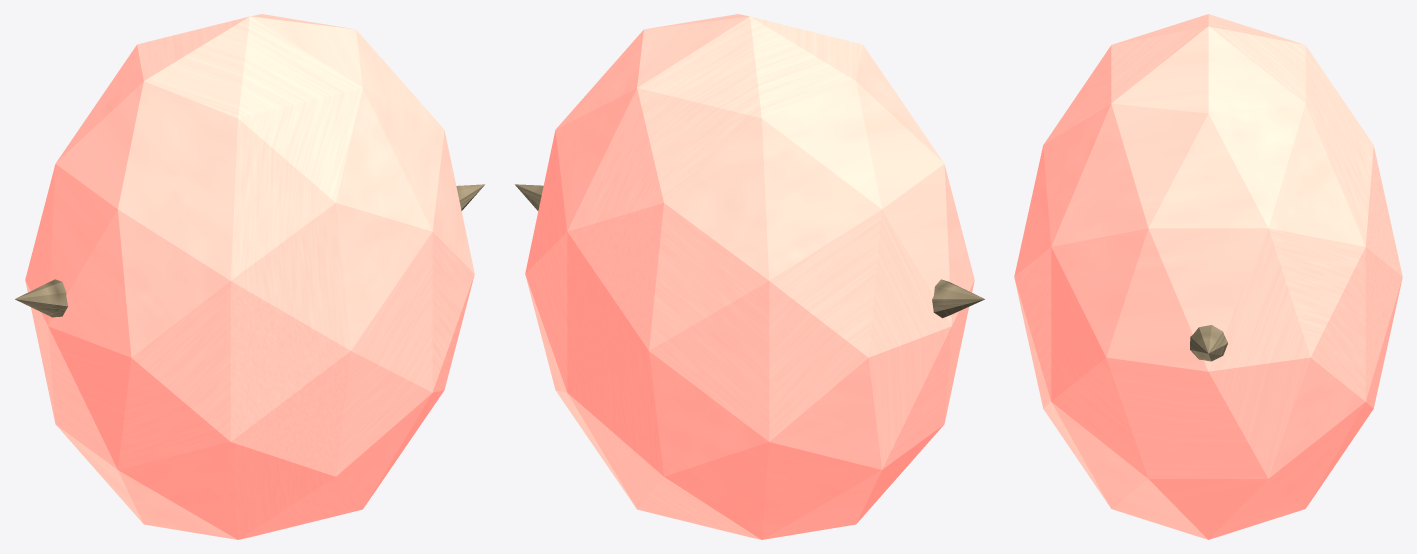
Rendered from golden_heart.glb.
3 renders of one model, left to right at view 1: azimuth 30°, elevation 25°; view 2: azimuth 150°, elevation 25°; view 3: azimuth 270°, elevation 25°, orthographic. The views are drawn at different scales.
Parts seen in each view (by area): view 1: glowred, gold; view 2: glowred, gold; view 3: glowred, gold.
Boxes of the visible parts, box(x1,y1,x2,y2) form: glowred: box(25, 14, 474, 539); gold: box(15, 184, 484, 317); glowred: box(525, 14, 974, 539); gold: box(515, 184, 984, 318); glowred: box(1014, 14, 1402, 539); gold: box(1190, 325, 1227, 361).
Bounding box in the file's own units: 0.7 × 0.74 × 0.52.
2 materials, 2 textured.
